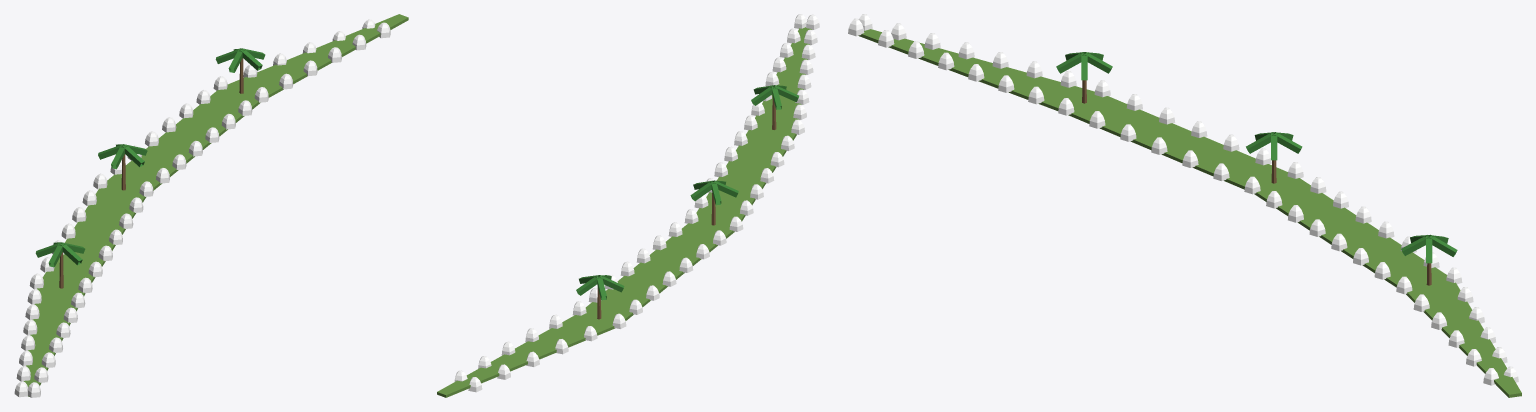
Rendered from pb_bollardisland.glb.
3 views of the same model, side by side, from view 1: azimuth 30°, elevation 25°; view 2: azimuth 210°, elevation 25°; view 3: azimuth 270°, elevation 25° (orthographic). The views are drawn at different scales.
Parts seen in each view (by area): view 1: pb_bollardisland_lod0; view 2: pb_bollardisland_lod0; view 3: pb_bollardisland_lod0.
Boxes of the visible parts, x1,y1,x2,y2 form: pb_bollardisland_lod0: [14, 14, 408, 397]; pb_bollardisland_lod0: [437, 14, 819, 397]; pb_bollardisland_lod0: [848, 14, 1521, 397].
Size of what is drawn, in the model's own units: 50.85 by 3.59 by 39.1.
